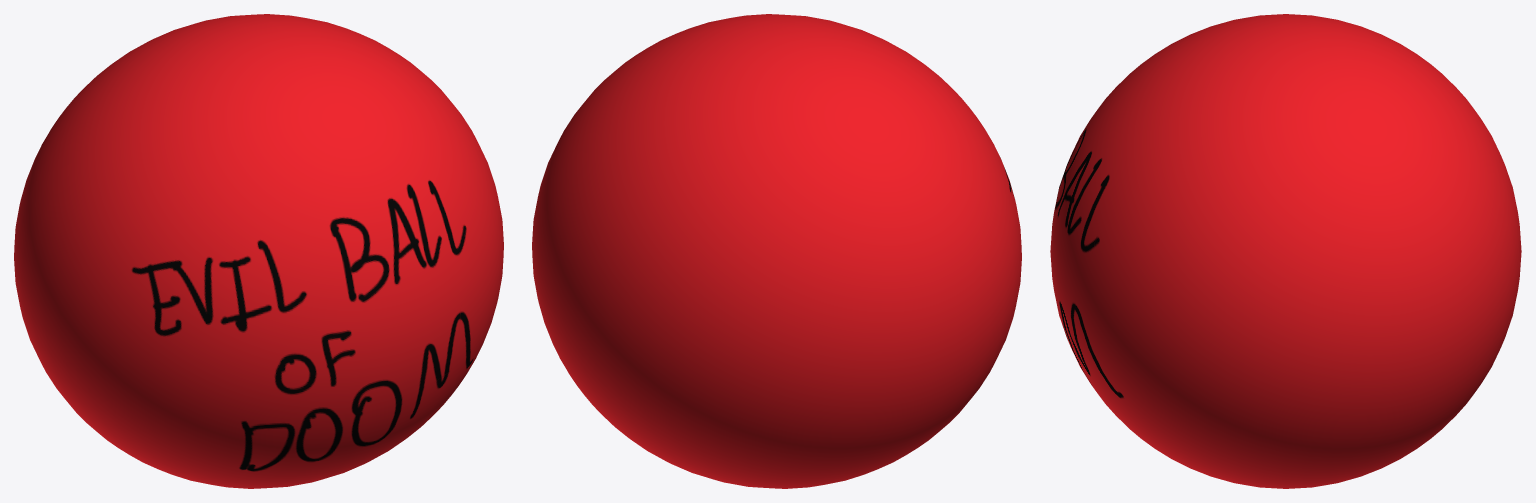
Rendered from enemy.fbx.
3 renders of one model, left to right at view 1: azimuth 30°, elevation 25°; view 2: azimuth 150°, elevation 25°; view 3: azimuth 270°, elevation 25°, orthographic.
Parts seen in each view (by area): view 1: nodes[0]; view 2: nodes[0]; view 3: nodes[0].
Boxes of the visible parts, x1,y1,x2,y2 form: nodes[0]: (14, 14, 503, 488); nodes[0]: (532, 14, 1021, 488); nodes[0]: (1050, 14, 1521, 488).
Bounding box in the file's own units: 0.4313 × 0.4127 × 0.4127.
Materials: 1 (1 with a texture image).
